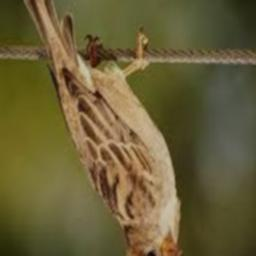Sparrow: (15, 0, 181, 256)
